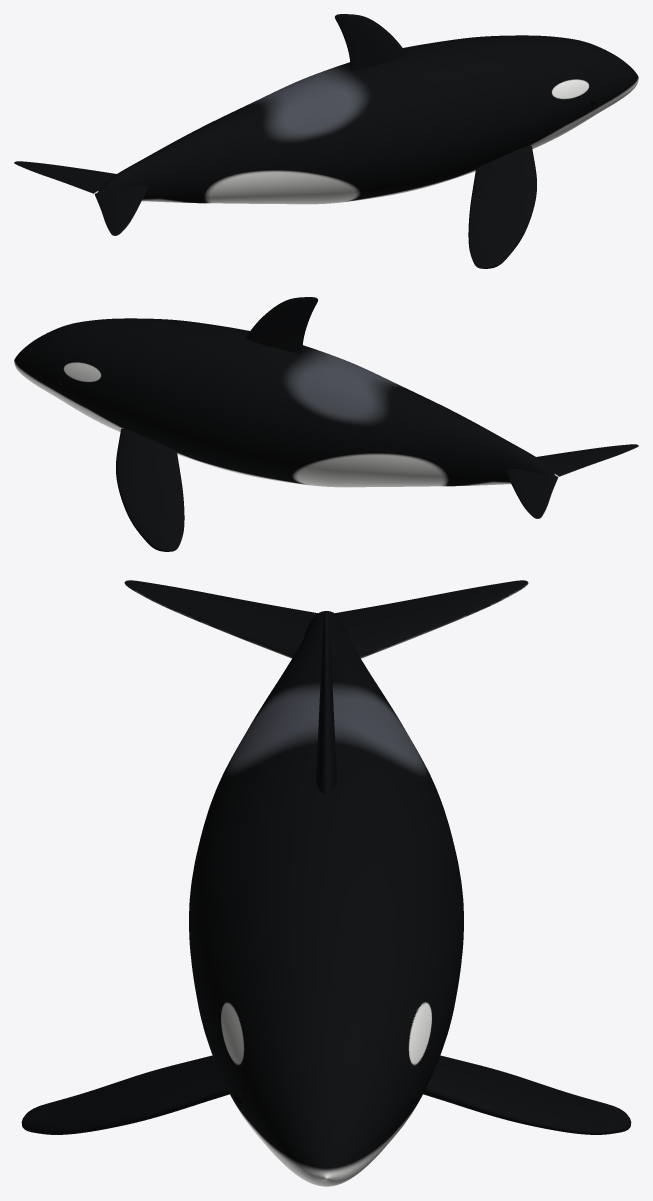
Rendered from orca.glb.
The picture shows the model from 3 angles, top to bottom: view 1: azimuth 30°, elevation 25°; view 2: azimuth 150°, elevation 25°; view 3: azimuth 270°, elevation 25°; orthographic projection. The views are drawn at different scales.
Visible parts, largest first — view 1: skin; view 2: skin; view 3: skin.
Part boxes in pixels (box(x1,y1,x2,y2)): skin: box(14, 14, 638, 268); skin: box(14, 297, 638, 551); skin: box(21, 580, 631, 1186).
Bounding box in the file's own units: 4.1 × 1.48 × 1.88.
Materials: 1 (1 with a texture image).
